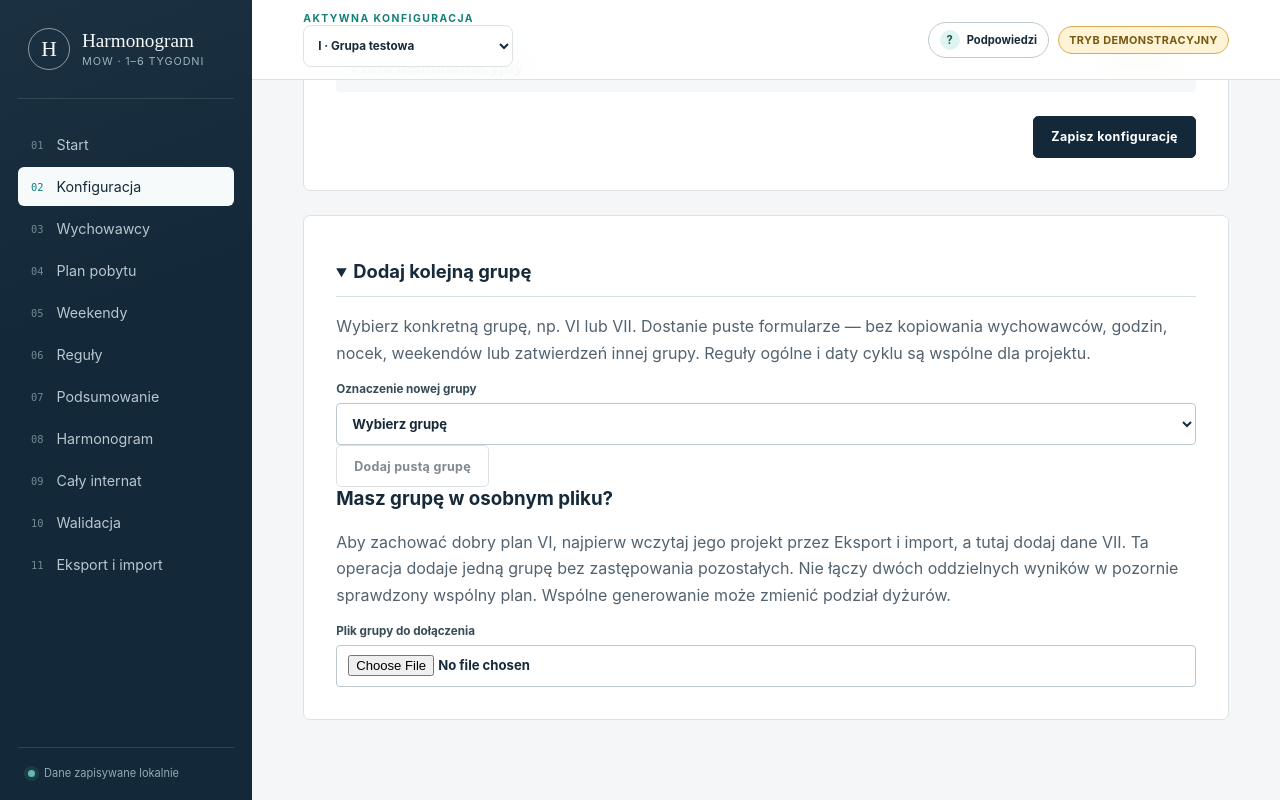
Test: główny przepływ interfejsu › dodaje konkretną pustą grupę bez zmiany zakresu istniejącej
(page scrolled)
Select "VII" in the dropdown labelled "Oznaczenie nowej grupy": (766, 424) x1=336 y1=403 x2=1196 y2=445
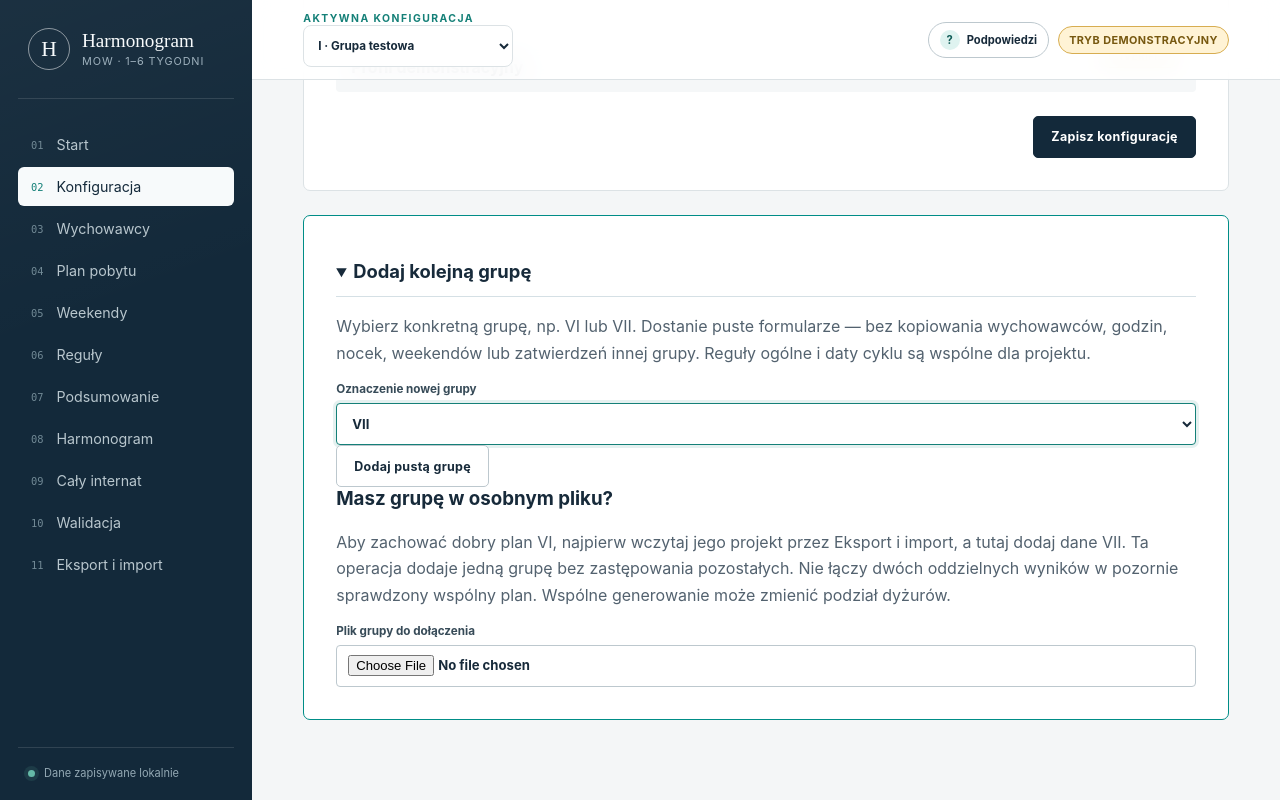
Click the button "Dodaj pustą grupę": (413, 466) x1=336 y1=445 x2=489 y2=487
(page scrolled)
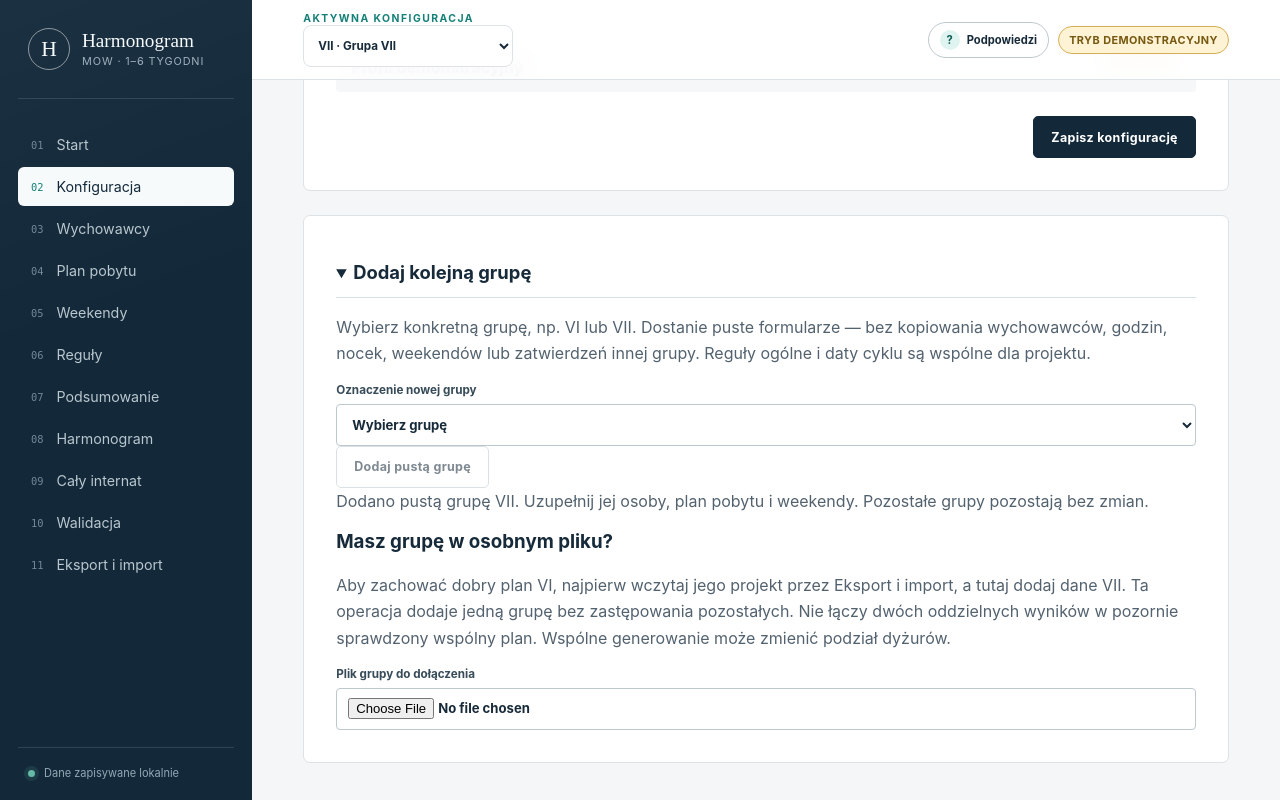
Expected: the dropdown named "Aktualnie edytowana grupa" shows "VII · Grupa VII", x1=303 y1=25 x2=513 y2=67
